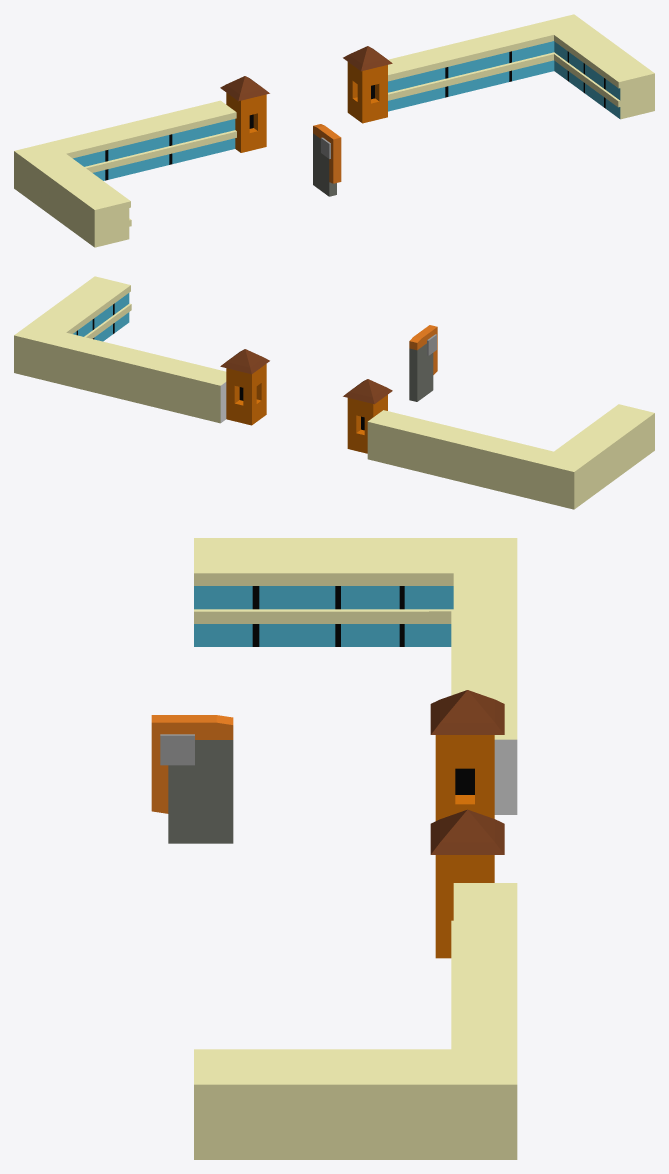
File: Plaza404.fbx
The picture shows the model from 3 angles, top to bottom: view 1: azimuth 30°, elevation 25°; view 2: azimuth 150°, elevation 25°; view 3: azimuth 270°, elevation 25°; orthographic projection. The views are drawn at different scales.
Parts seen in each view (by area): view 1: Cube, Cube.001; view 2: Cube, Cube.001; view 3: Cube, Cube.001.
Part boxes in pixels (x1,y1,x2,y2): Cube: (14,14,654,247); Cube.001: (313,124,341,196); Cube: (14,276,654,509); Cube.001: (409,325,437,401); Cube: (194,538,517,1159); Cube.001: (151,715,233,843).
Bounding box in the file's own units: 30092 × 3511 × 8502.
